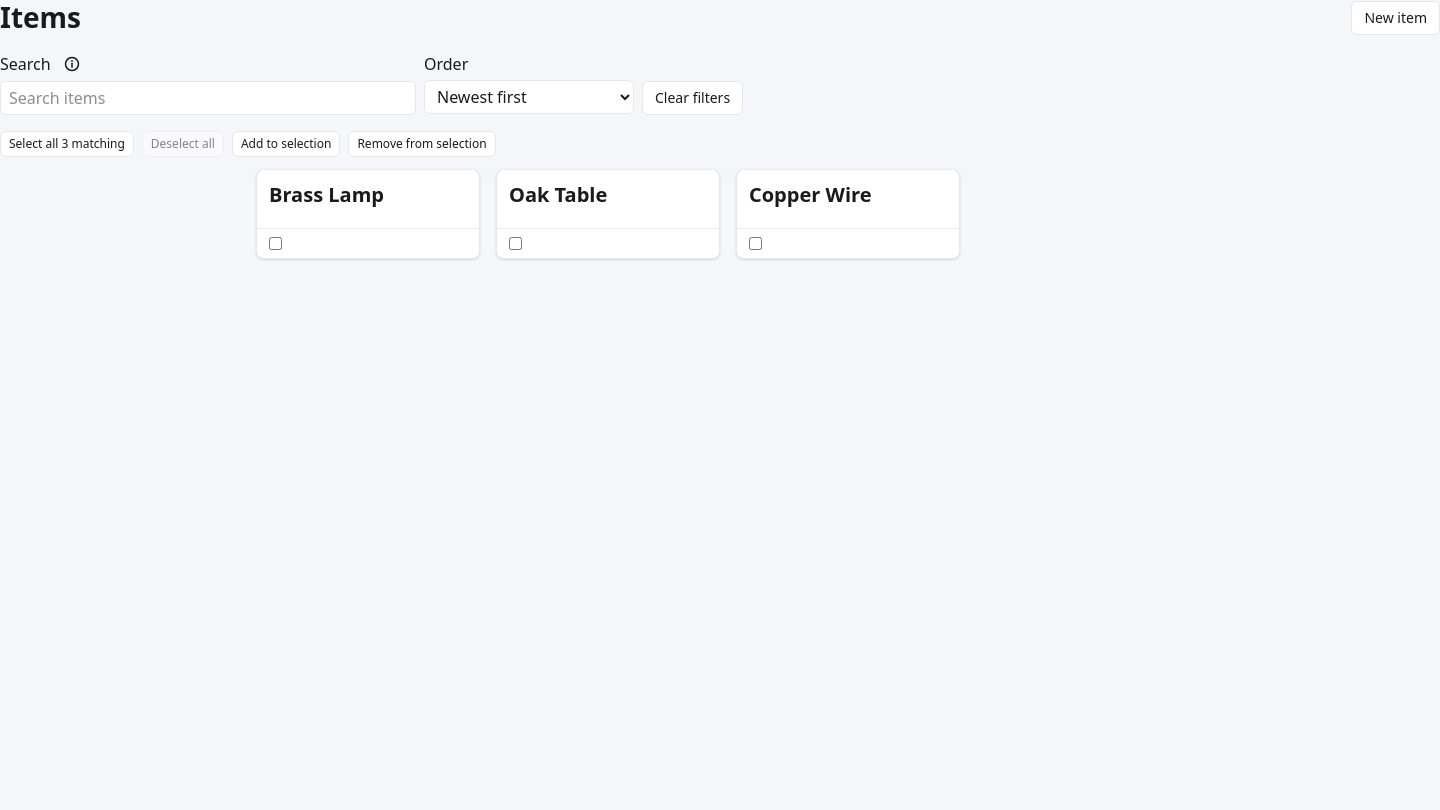
Test: the bulk edit panel › shows what the selection holds, per property
The image size is (1440, 810).
Click the button "Select all 3 matching" at coordinates (67, 144), box [0,131,134,157]
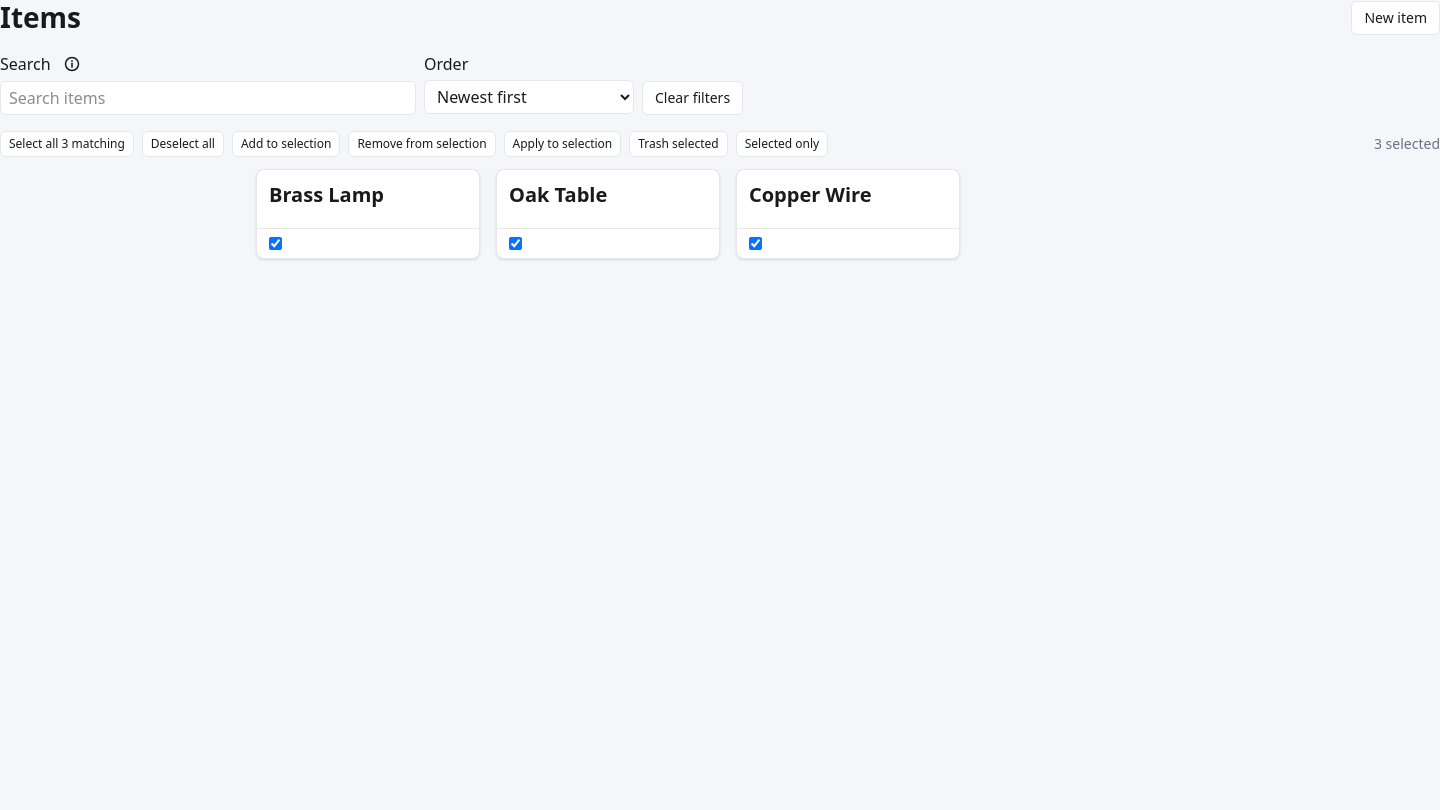
Expected: the text "3 selected" is shown, [1374,134,1439,154]
Click the button "Apply to selection" at coordinates (562, 144), box [504,131,621,157]
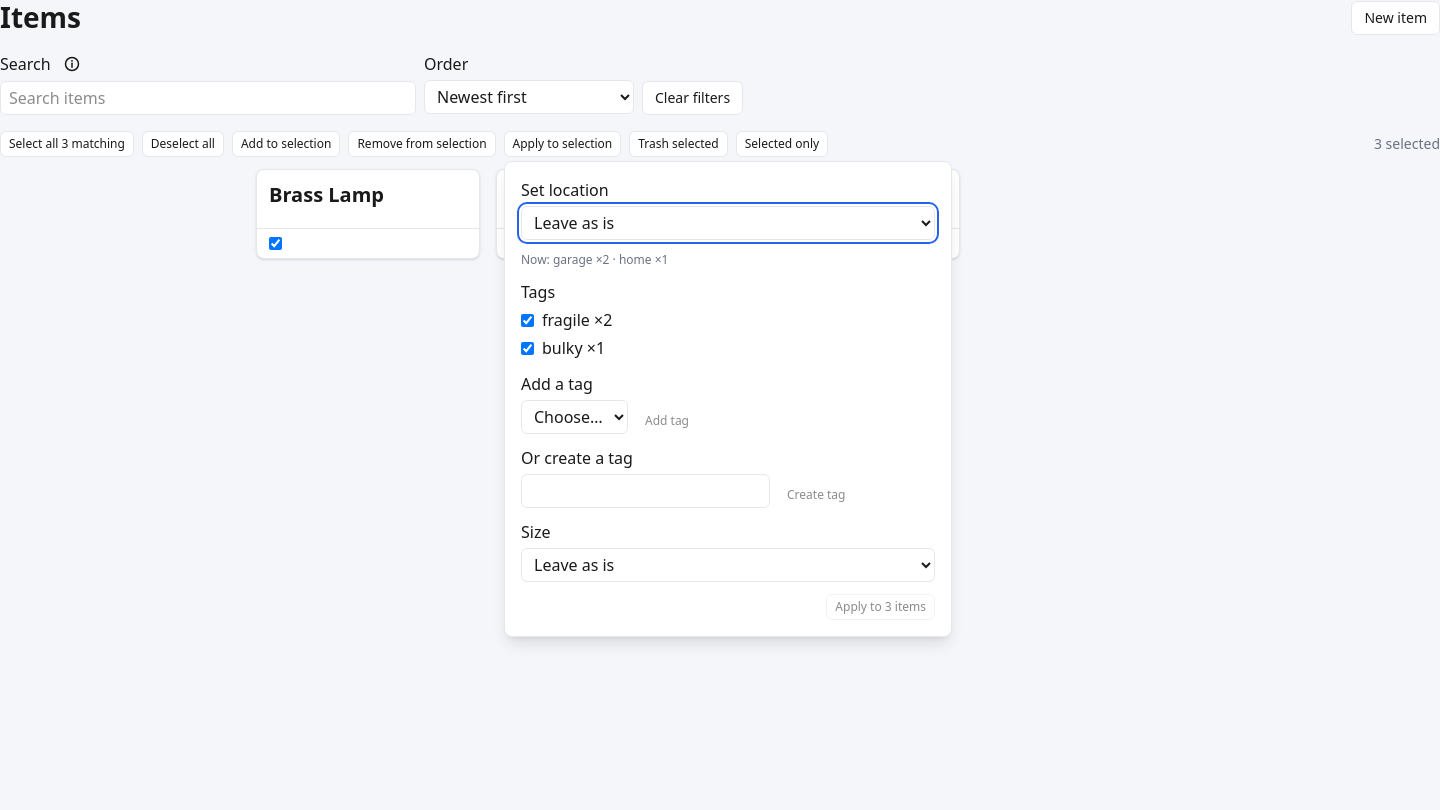
Expected: the text "Now: garage ×2 · home ×1" is shown, [521,251,668,268]
Expected: the checkbox labelled "fragile ×2" is shown, [521,314,534,326]
